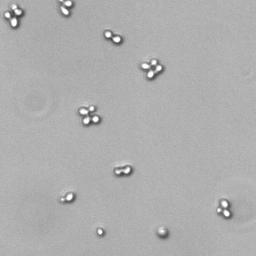budding: (213, 194, 237, 220), (53, 1, 78, 19), (101, 27, 125, 44), (113, 162, 135, 178), (57, 189, 79, 205)
cluster: (1, 1, 29, 31), (75, 103, 104, 128), (137, 55, 166, 80)
contamination: (153, 221, 171, 238)
individual: (92, 224, 107, 237)
